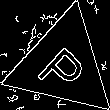P_NE: (32, 33, 93, 96)
